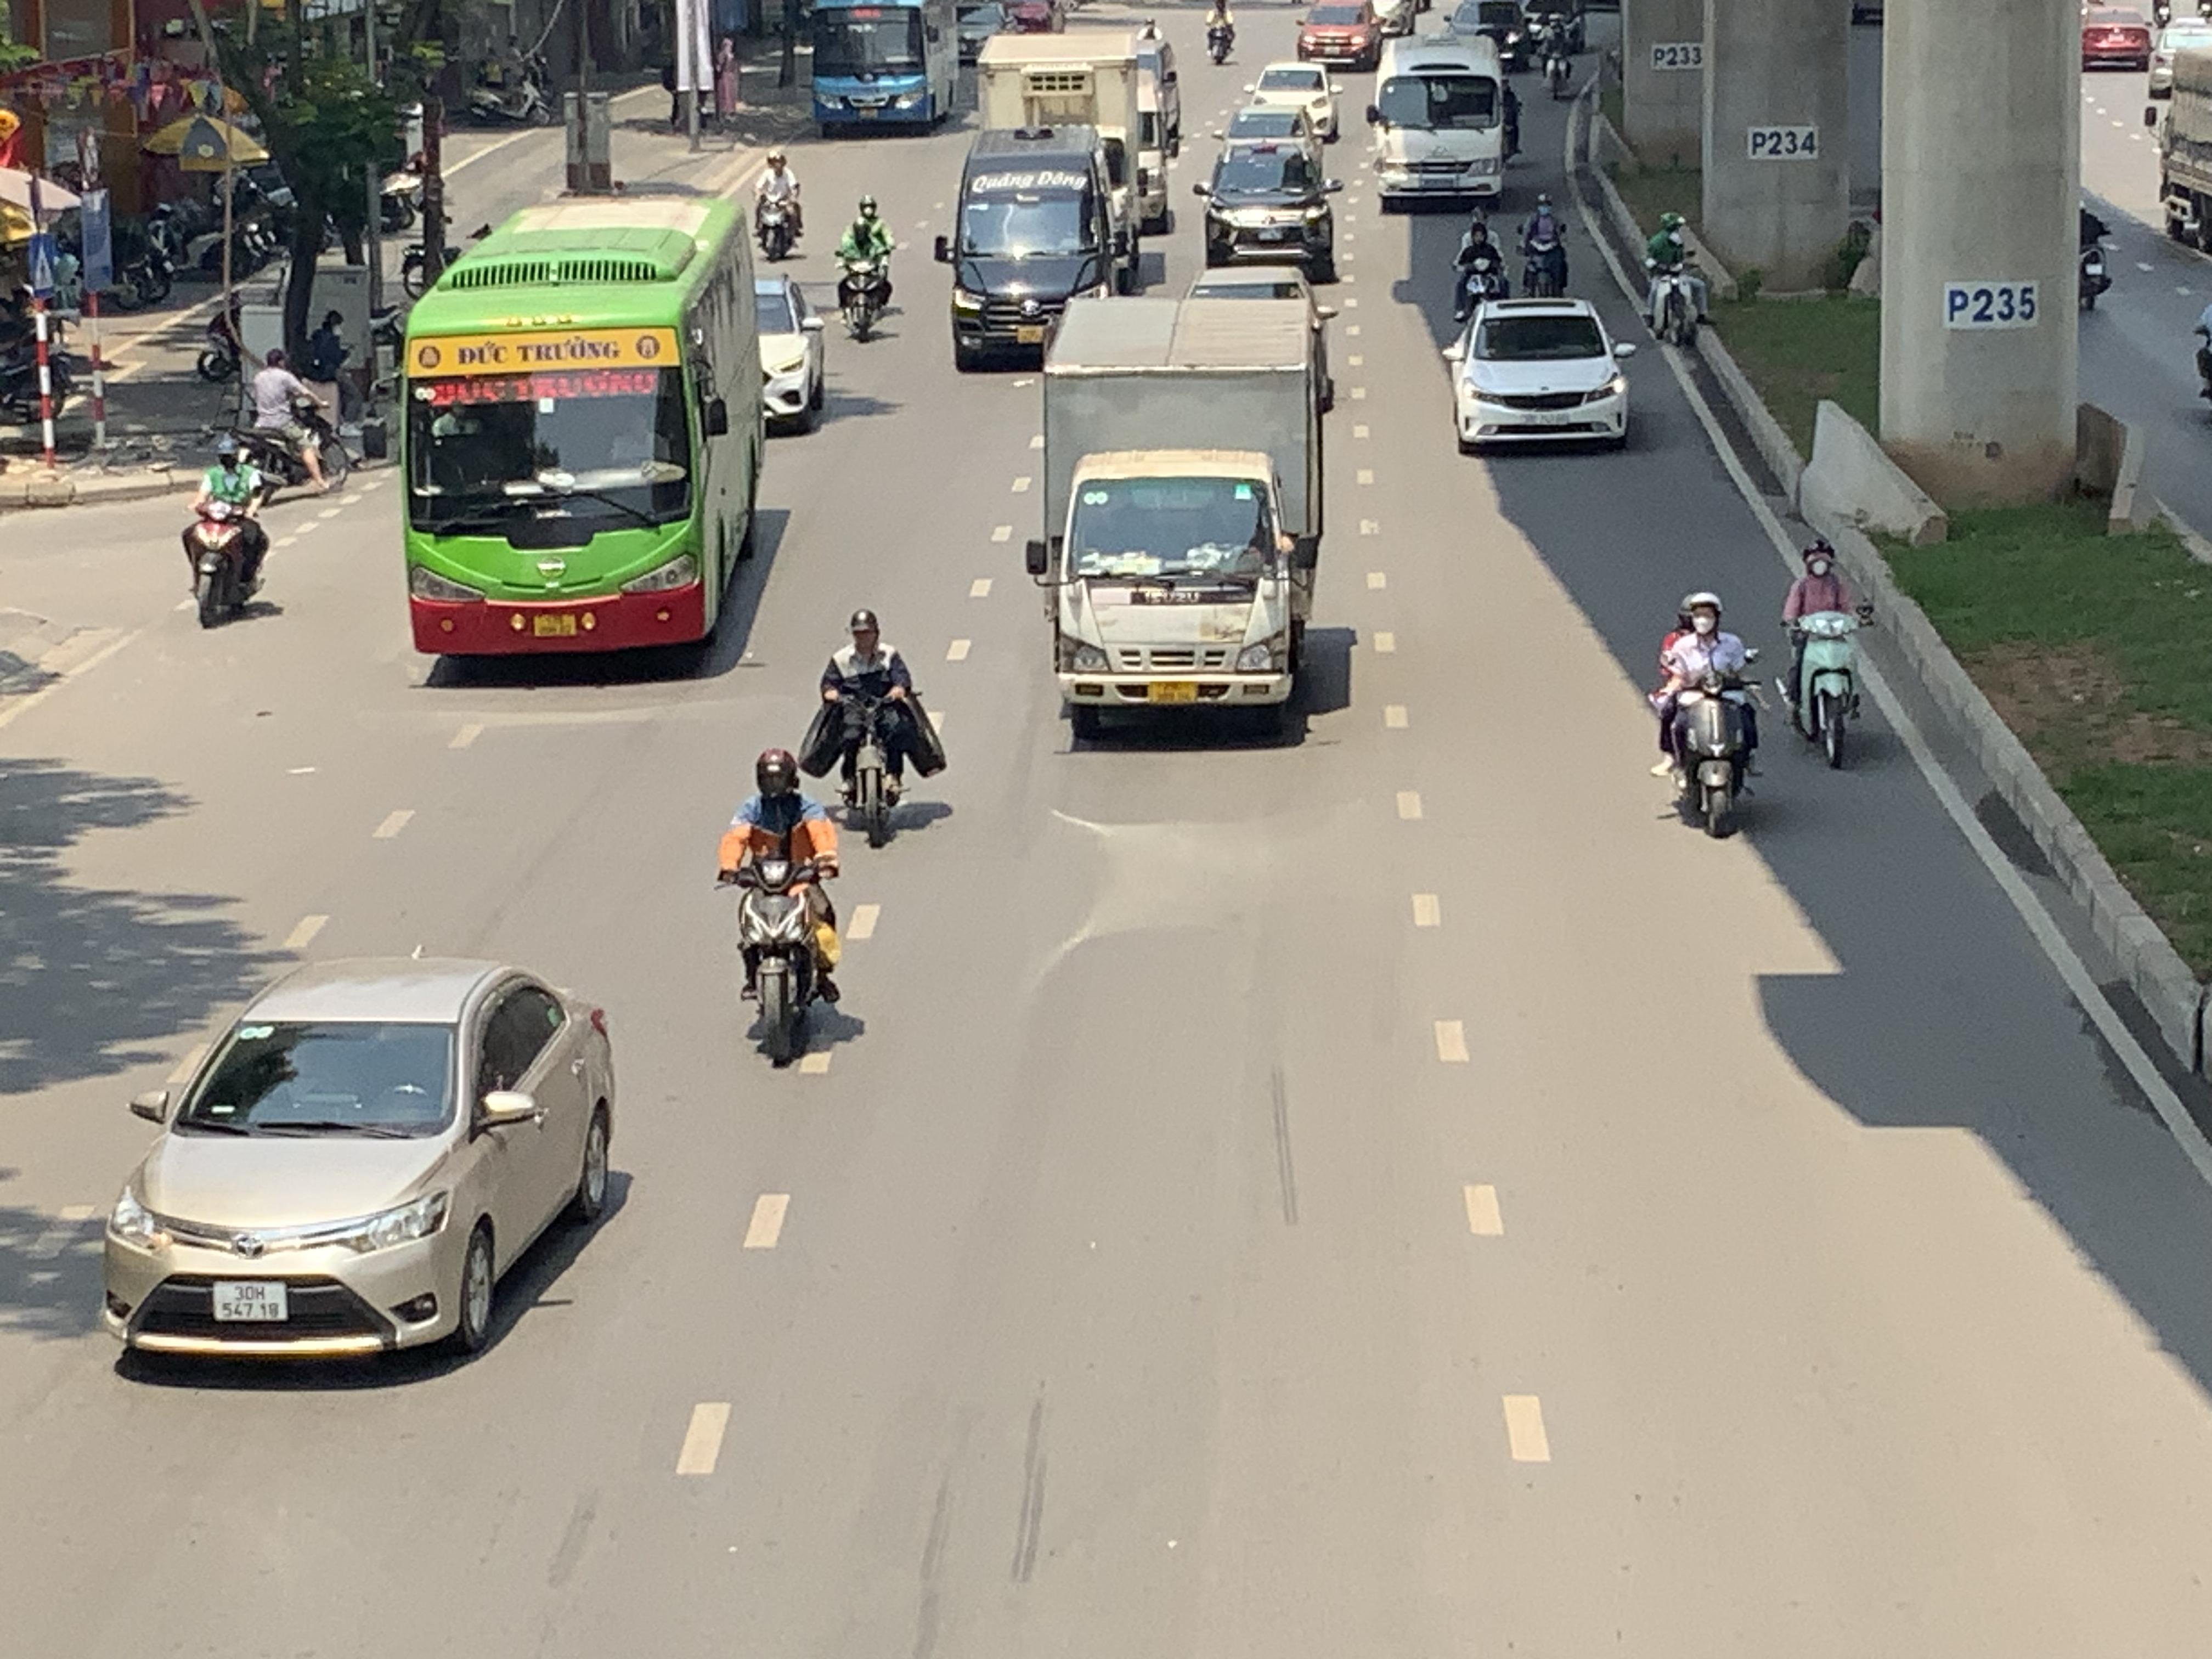BSV: (212, 1281, 287, 1323), (1148, 681, 1197, 704)
bus: (395, 188, 772, 666), (951, 125, 1123, 376), (1366, 31, 1519, 211), (806, 0, 953, 138)
car: (101, 955, 622, 1371), (1439, 296, 1635, 453), (1195, 141, 1343, 277), (754, 270, 827, 434), (1251, 61, 1339, 141), (1296, 0, 1379, 71)
motorbike: (719, 746, 846, 1068), (798, 608, 944, 849), (1651, 589, 1764, 838), (1780, 538, 1872, 770), (233, 343, 359, 502), (183, 434, 273, 629), (1639, 213, 1709, 347), (833, 197, 895, 342), (465, 45, 554, 127), (1451, 211, 1510, 328), (1515, 192, 1571, 300), (195, 286, 254, 383), (754, 148, 805, 261), (2078, 185, 2114, 312), (1205, 0, 1237, 66)
truck: (1024, 295, 1336, 742)
